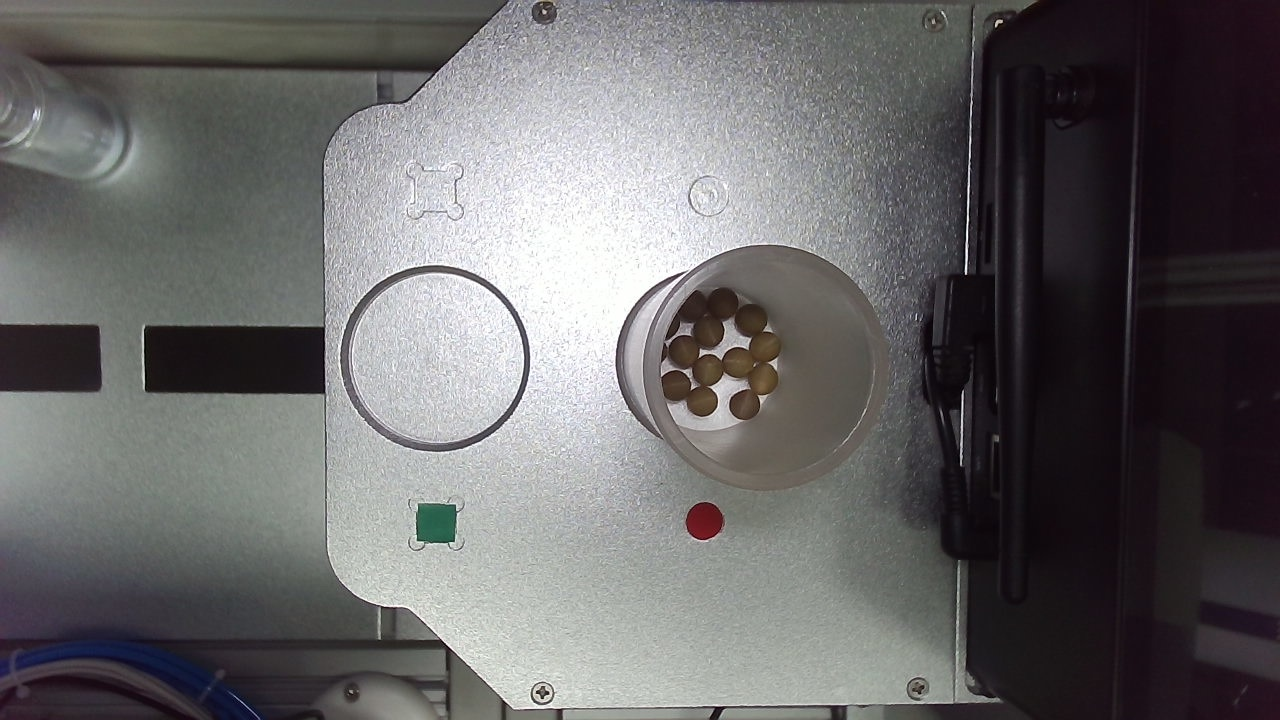XLabel: (570, 318, 604, 351)
YLabel: (347, 312, 382, 347)
none: (505, 388, 662, 548)
transparenexcept: (136, 384, 441, 602)
